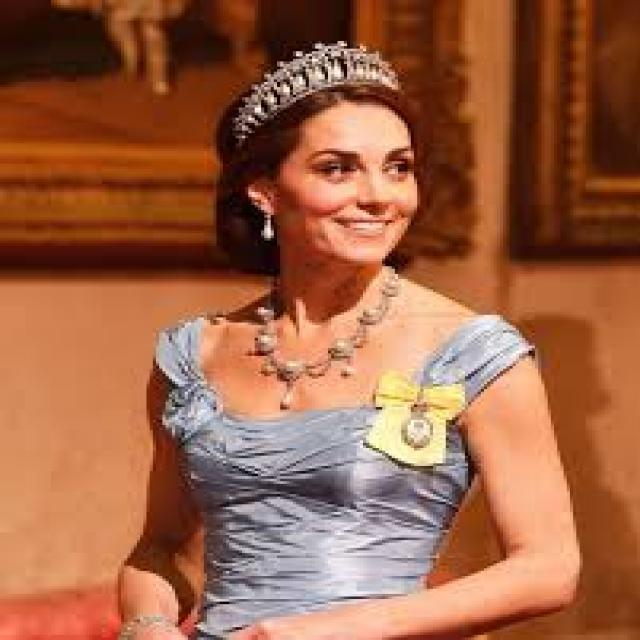Earring: (259, 212, 286, 244)
